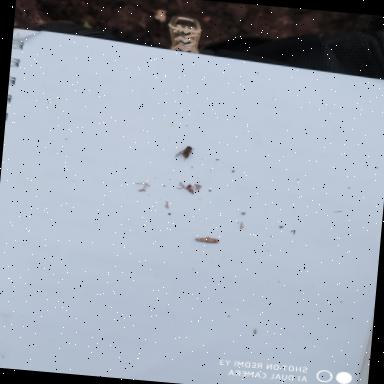pbw: (194, 236, 221, 244)
